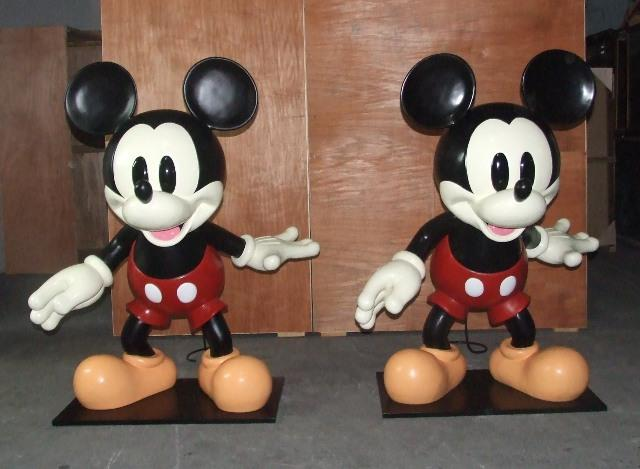Mickey: (397, 44, 597, 243), (59, 55, 260, 247)
